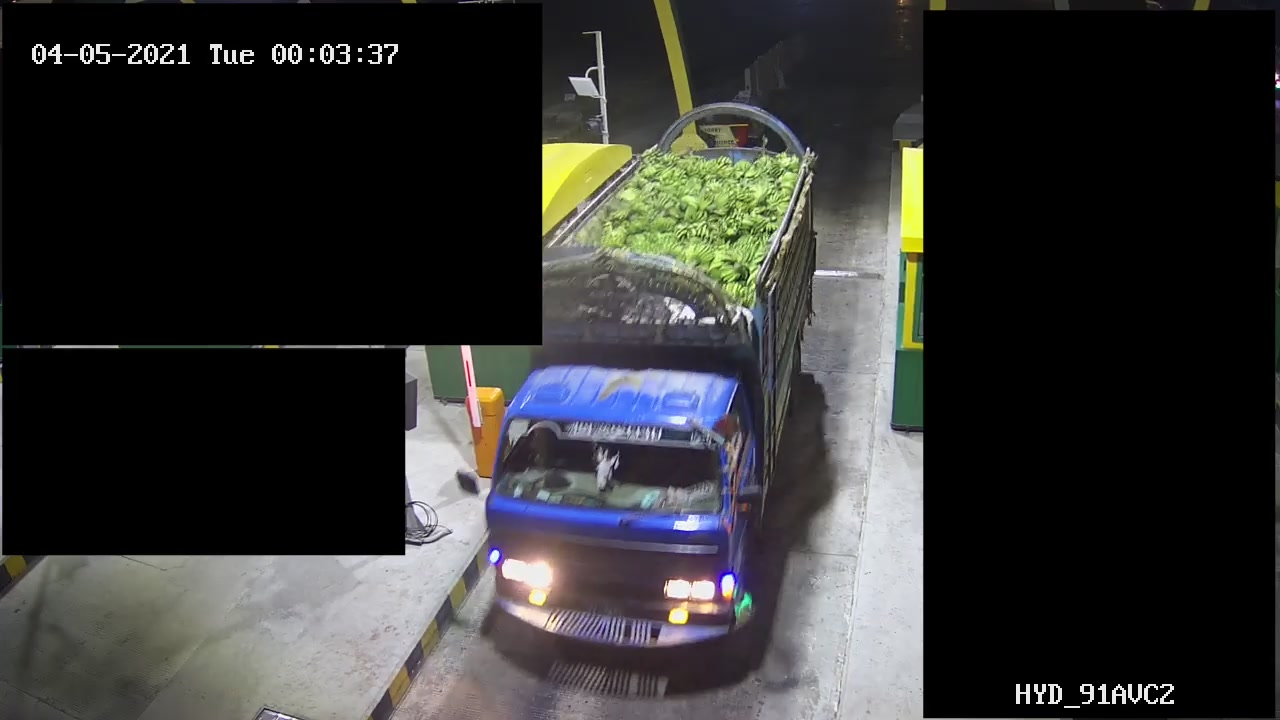F5: (481, 102, 836, 662)
